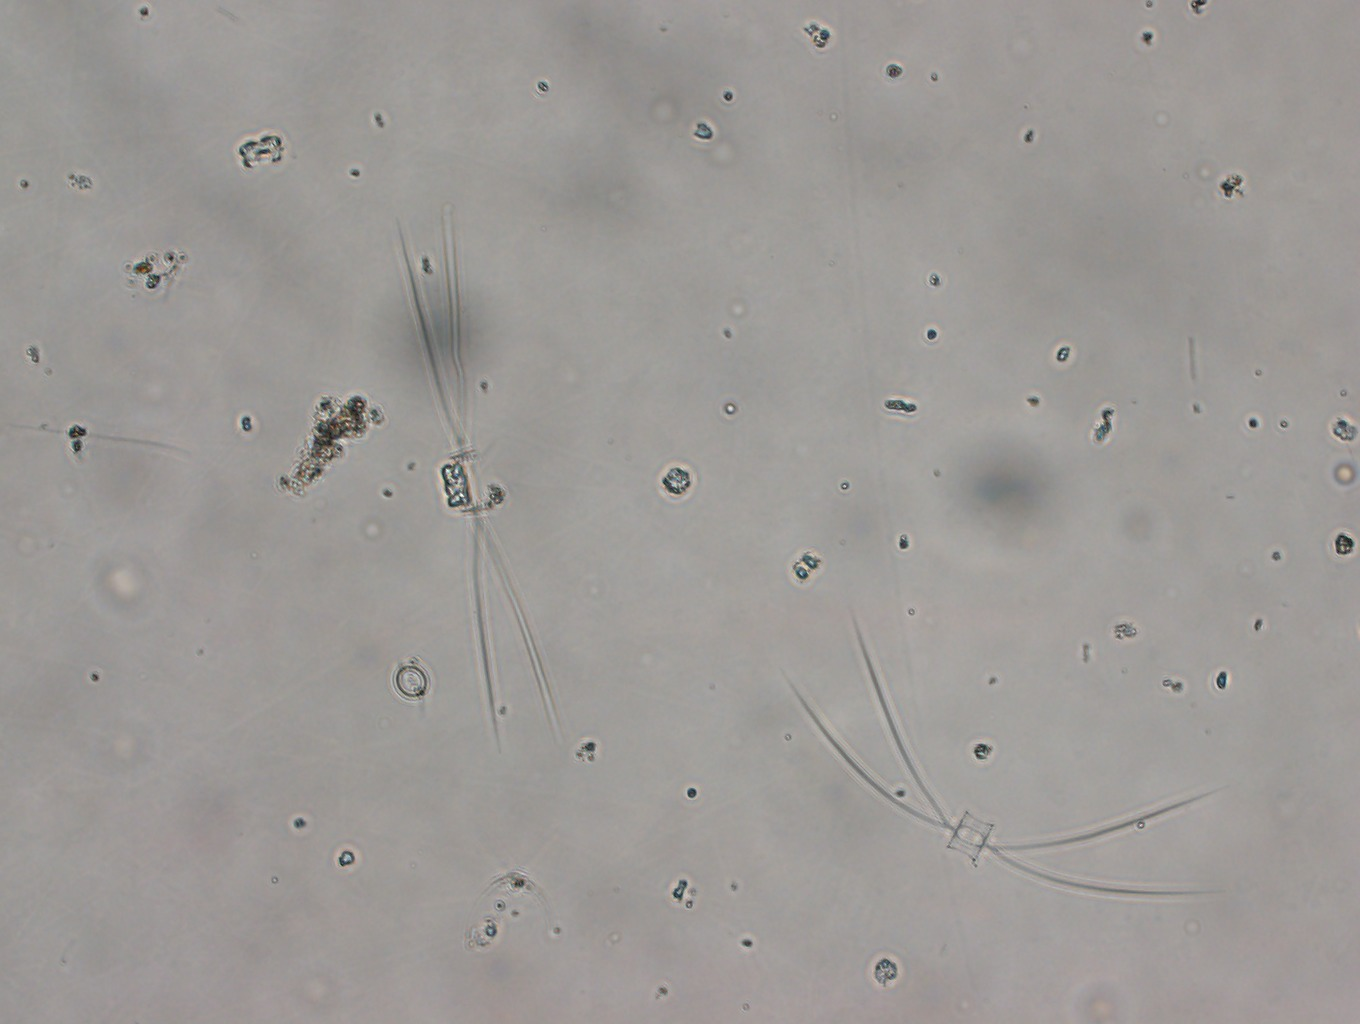chaetoceros: (781, 602, 1219, 899), (396, 202, 563, 750)
